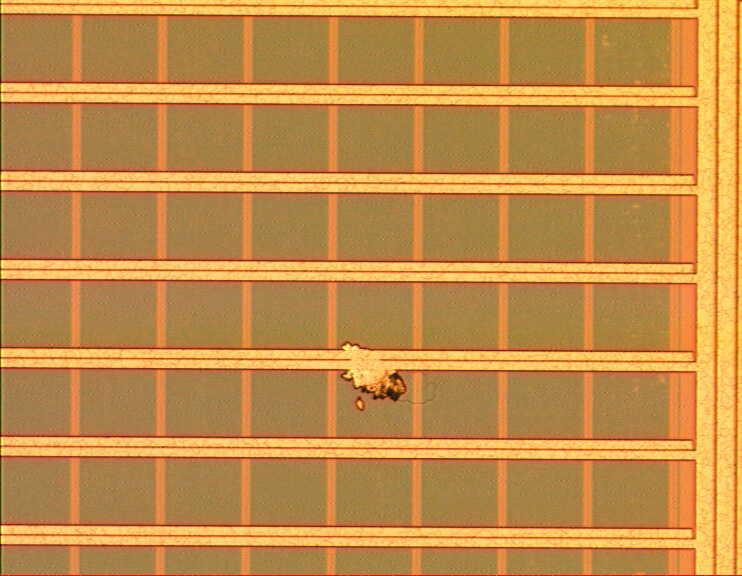BLOCK ETCH: (335, 333, 441, 411)
